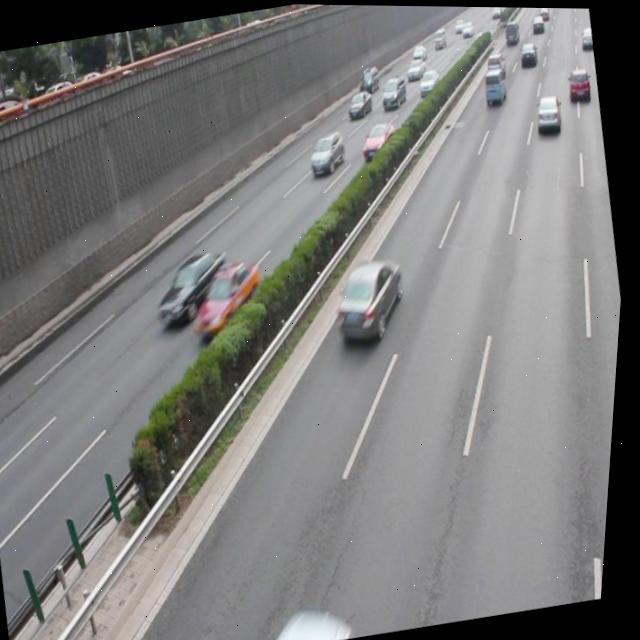car: (329, 252, 415, 345), (152, 245, 237, 329), (187, 253, 271, 337), (306, 128, 350, 176), (358, 116, 400, 158), (531, 90, 564, 133)
